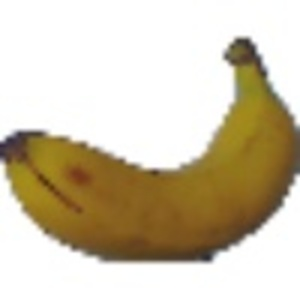banana: (2, 31, 297, 262)
